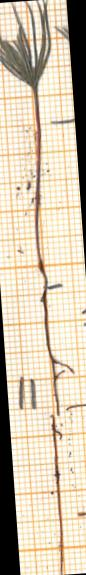flower: (0, 0, 50, 88)
root: (41, 291, 73, 415)
stem: (34, 91, 46, 290)
